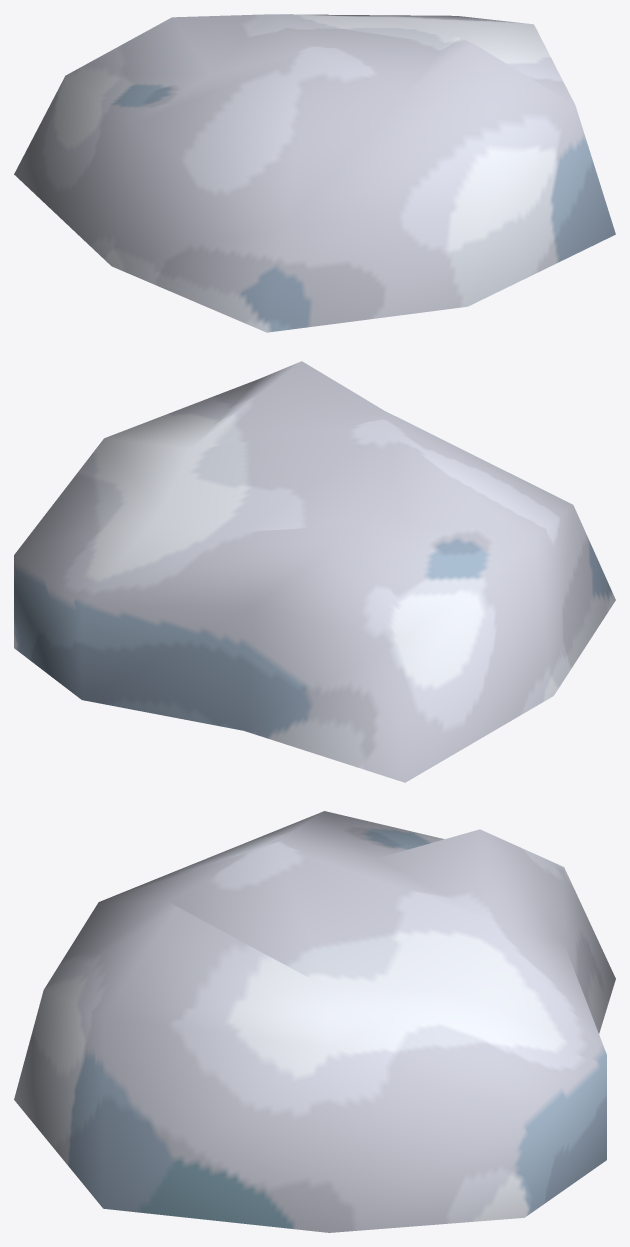
File: Rock 2 X 2 11_preview_3DS_simplified.glb
The picture shows the model from 3 angles, top to bottom: view 1: azimuth 30°, elevation 25°; view 2: azimuth 150°, elevation 25°; view 3: azimuth 270°, elevation 25°; orthographic projection. The views are drawn at different scales.
Parts seen in each view (by area): view 1: Marine Park Empire model; view 2: Marine Park Empire model; view 3: Marine Park Empire model.
Boxes of the visible parts, x1=… form: Marine Park Empire model: x1=14, y1=14, x2=615, y2=332; Marine Park Empire model: x1=14, y1=361, x2=615, y2=782; Marine Park Empire model: x1=14, y1=811, x2=615, y2=1232.
Size of the model in its own units: 64 by 26.42 by 61.08.
1 material, 1 textured.
